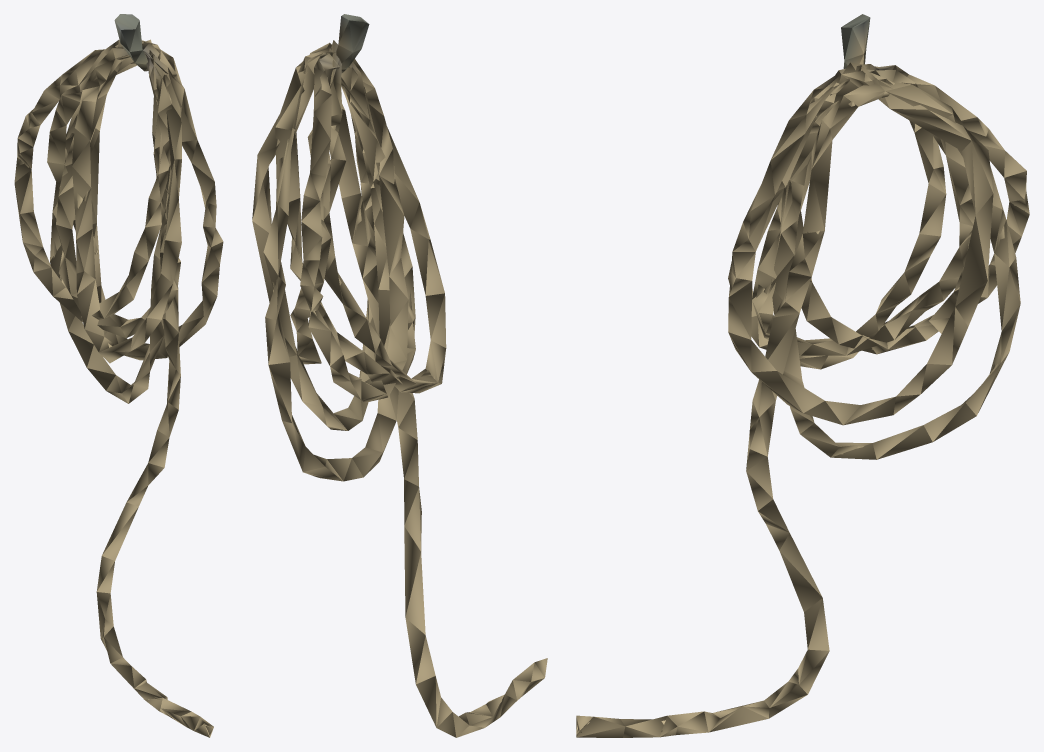
File: Rope01.fbx
3 renders of one model, left to right at view 1: azimuth 30°, elevation 25°; view 2: azimuth 150°, elevation 25°; view 3: azimuth 270°, elevation 25°, orthographic. The views are drawn at different scales.
Parts seen in each view (by area): view 1: Rope; view 2: Rope; view 3: Rope.
Boxes of the visible parts, x1,y1,x2,y2 form: Rope: (14,14,223,737); Rope: (252,14,547,737); Rope: (576,14,1029,737).
Bounding box in the file's own units: 20.83 × 123 × 67.94.
